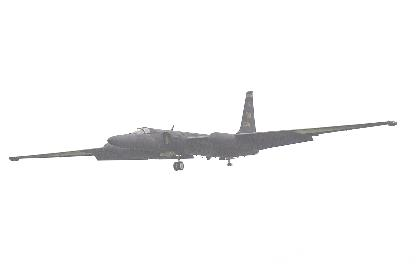Tu160: (7, 89, 396, 169)
